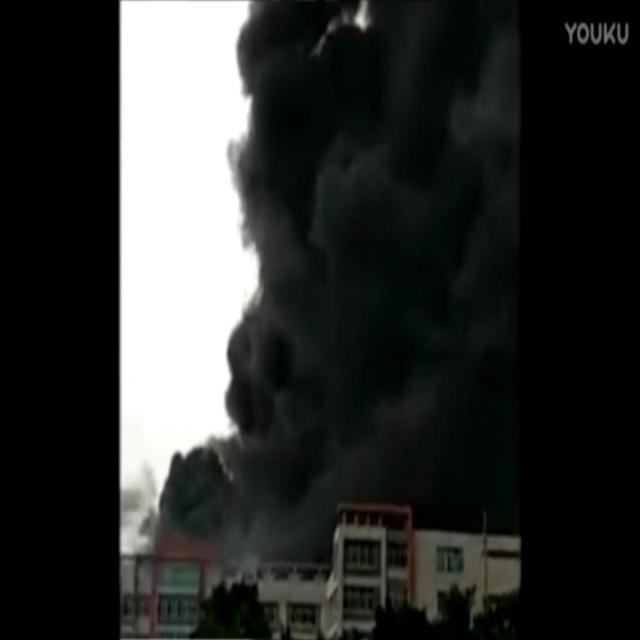Smoke: (120, 1, 520, 600)
